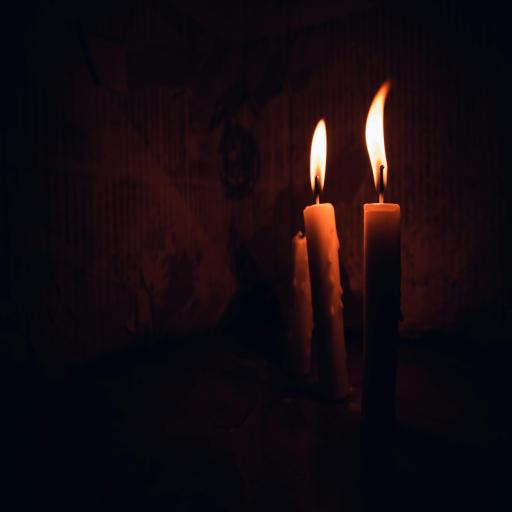candlelight: (360, 74, 415, 426), (300, 95, 352, 403)
